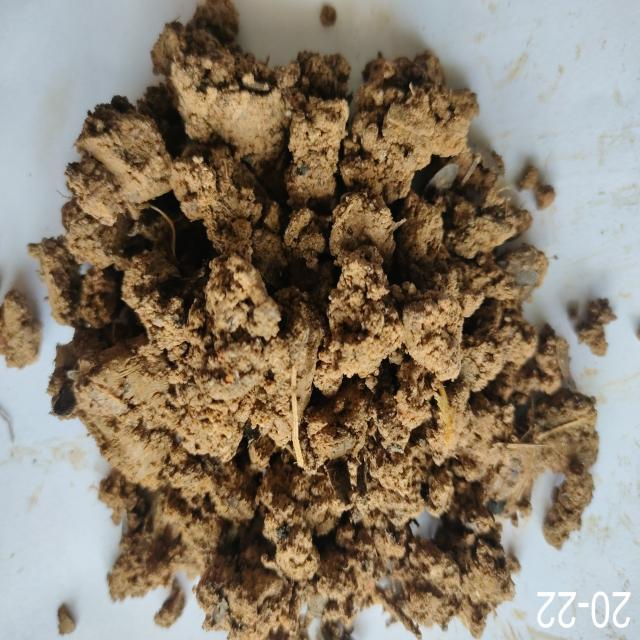soil: (184, 174, 466, 544)
